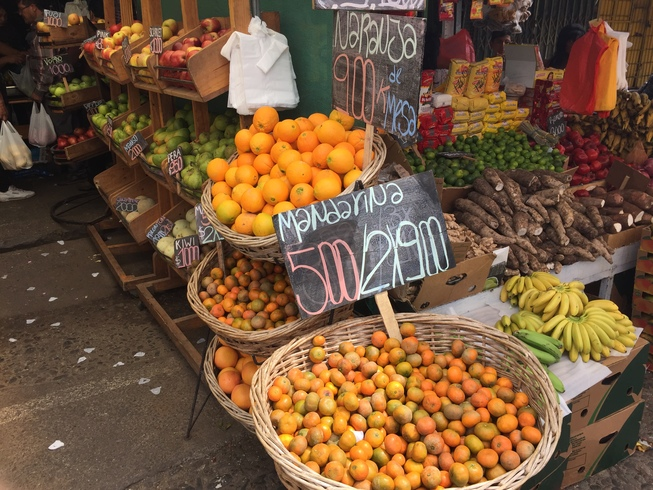precio: (266, 176, 464, 315), (329, 8, 435, 131), (170, 236, 205, 274), (145, 212, 178, 246), (43, 51, 79, 81), (163, 141, 189, 179), (81, 96, 111, 127), (39, 6, 72, 31), (115, 194, 145, 221), (125, 128, 148, 161), (115, 33, 137, 65), (148, 25, 167, 56), (91, 28, 111, 56)
